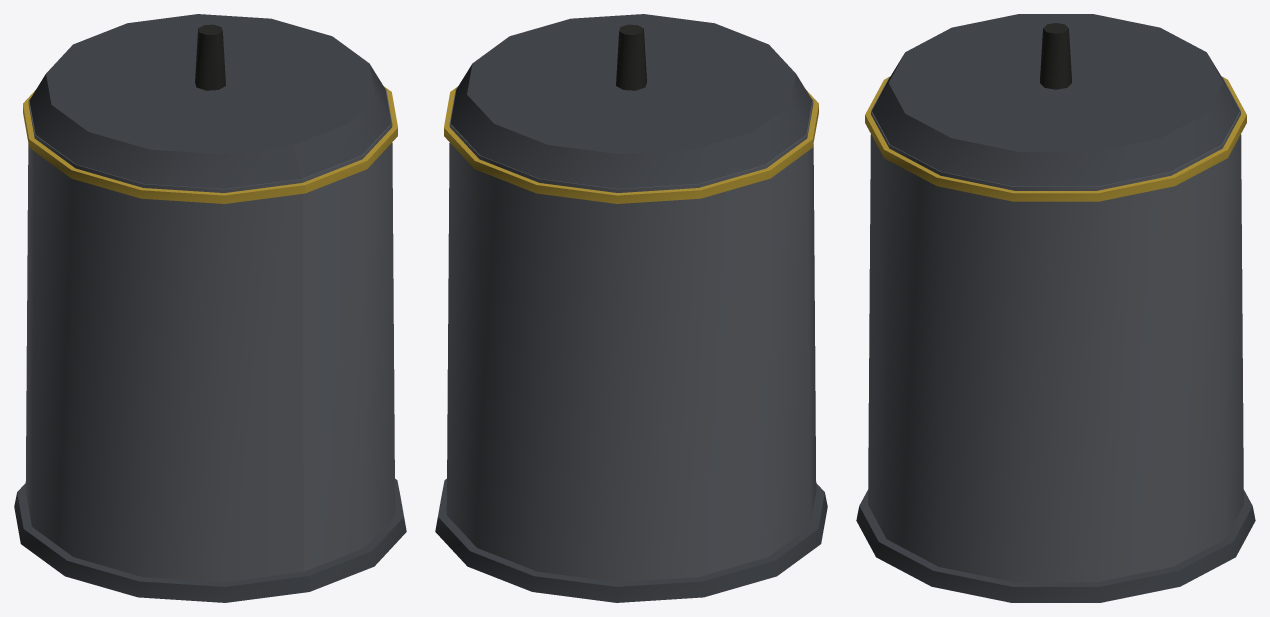
Rendered from landmark-tank.glb.
3 renders of one model, left to right at view 1: azimuth 30°, elevation 25°; view 2: azimuth 150°, elevation 25°; view 3: azimuth 270°, elevation 25°, orthographic.
Bounding box in the file's own units: 6.63 × 9.25 × 6.8.
